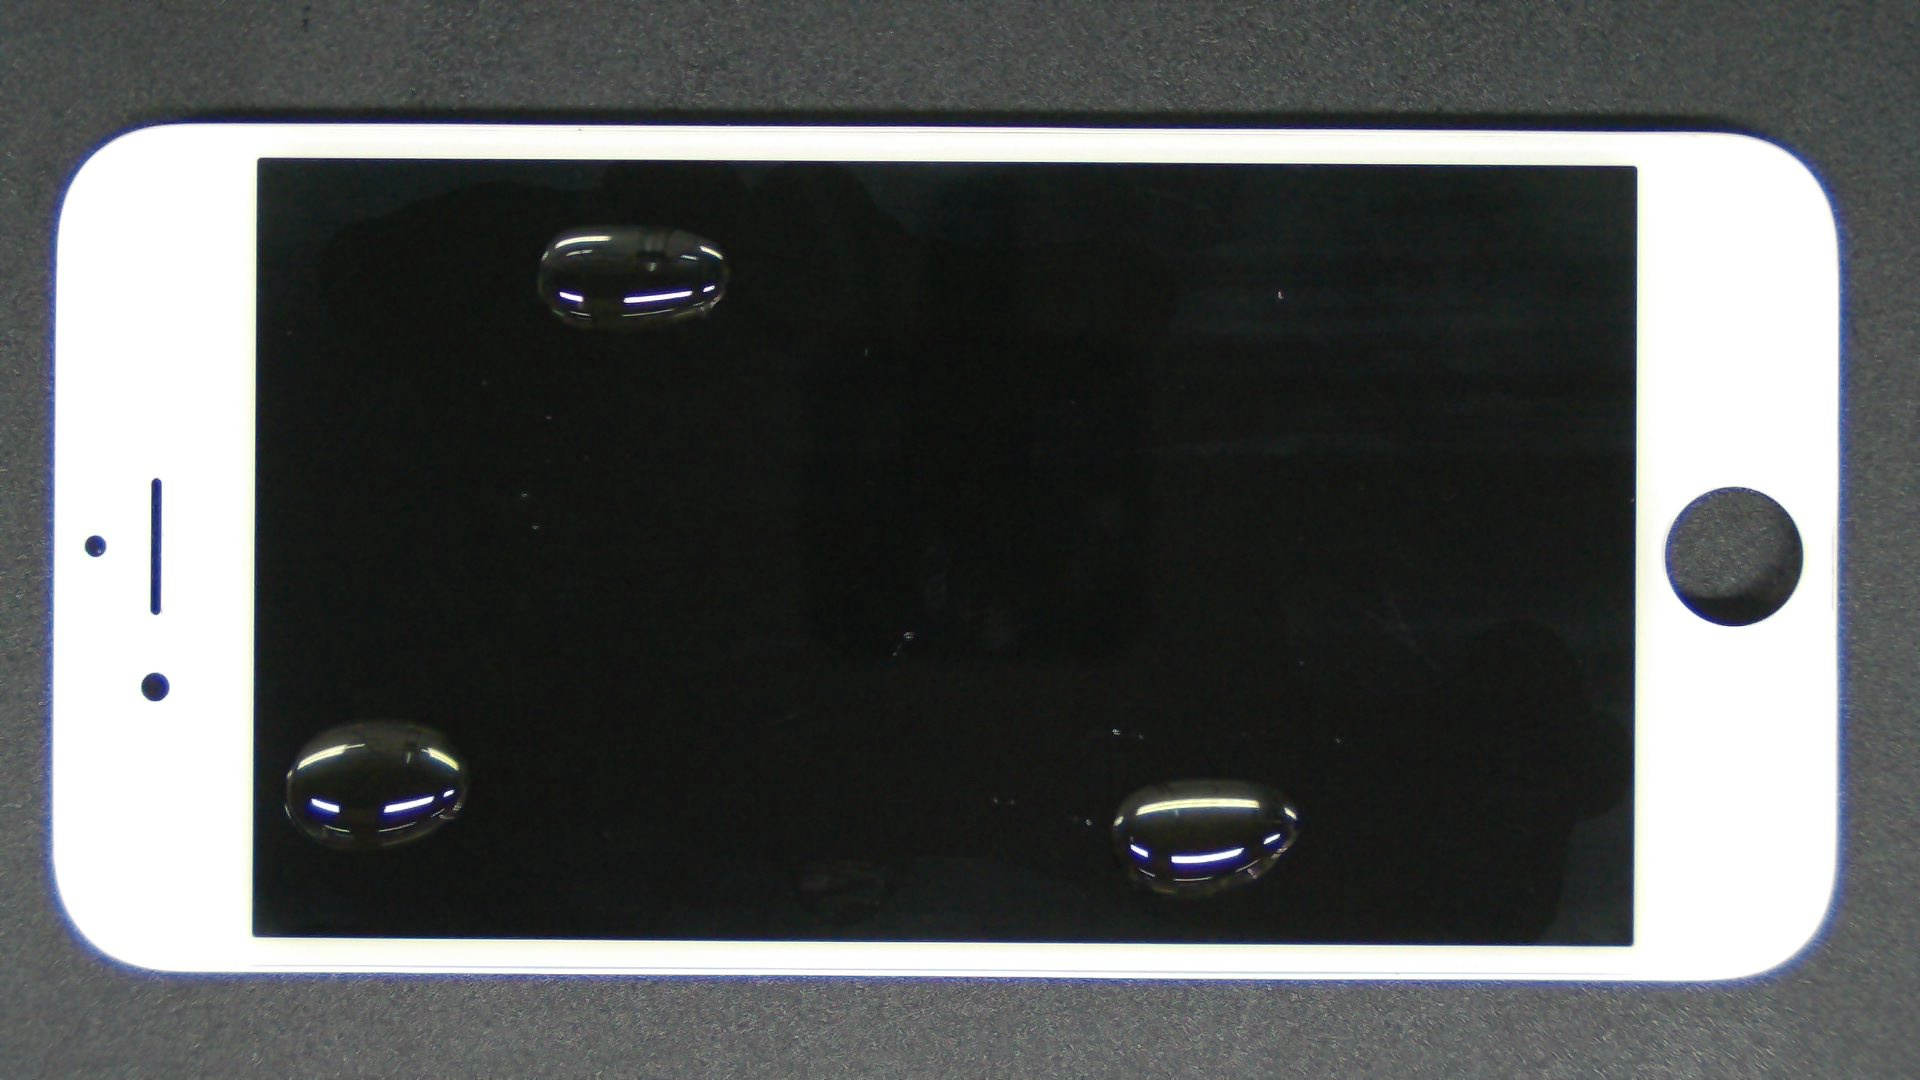oil: (607, 389, 1816, 1080), (193, 359, 574, 1079), (301, 112, 898, 338)
